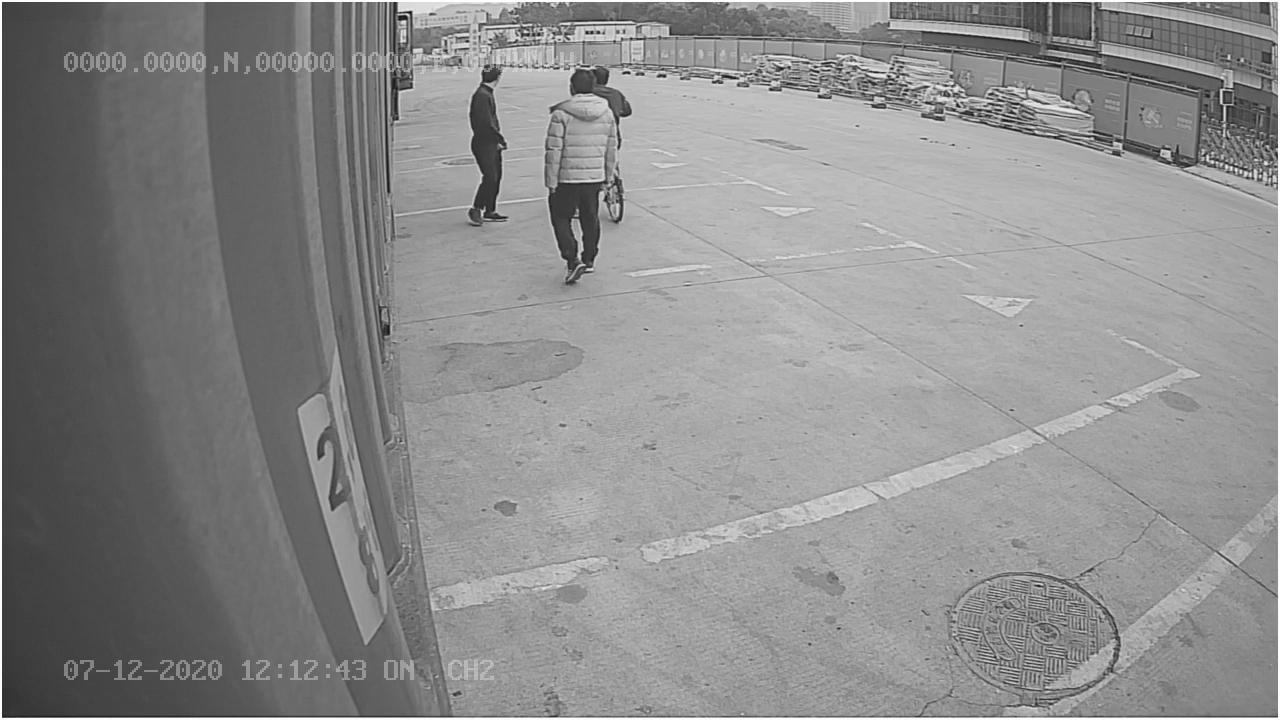person: (541, 66, 624, 284)
